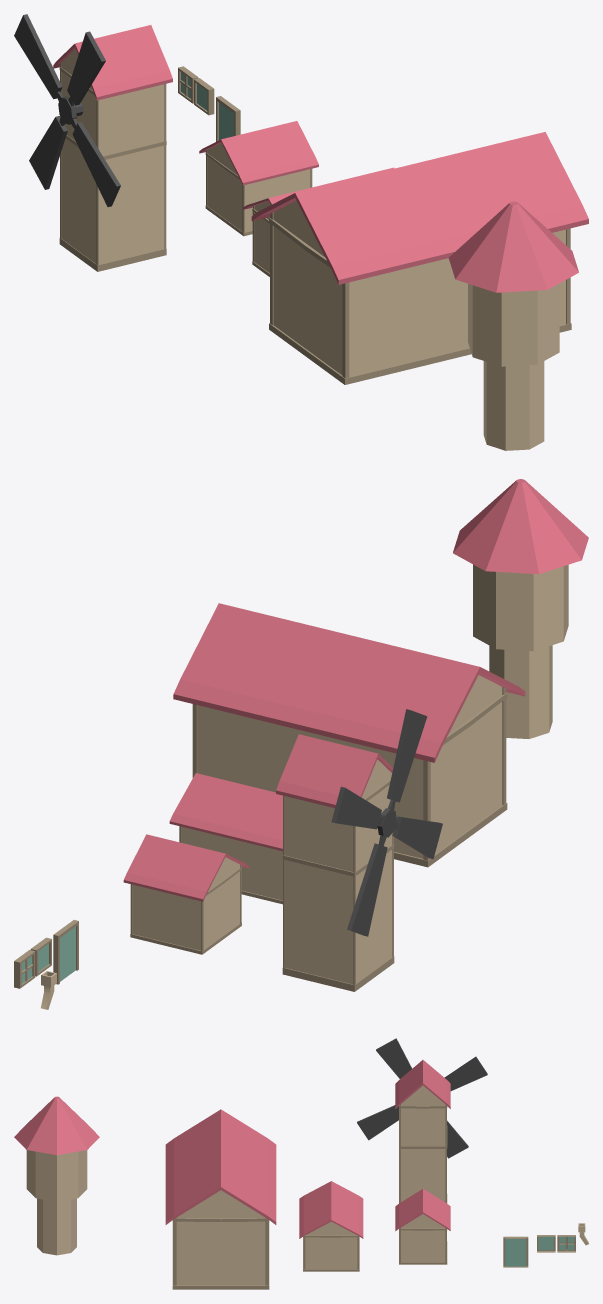
File: Houses_v2.fbx
The picture shows the model from 3 angles, top to bottom: view 1: azimuth 30°, elevation 25°; view 2: azimuth 150°, elevation 25°; view 3: azimuth 270°, elevation 25°; orthographic projection. The views are drawn at different scales.
Visible parts, largest first — view 1: Roof (×2), House (×2), Tower, House1 (×2), Roof1 (×2), Blades, House2, Door, Beam1, Window; view 2: Roof (×2), Tower, House (×2), House1 (×2), Roof1 (×2), Blades, House2, Door, Window1; view 3: Roof (×2), House (×2), Tower, Roof1 (×2), House1 (×2), Blades, House2, Door, Window, Window1.
Part boxes in pixels (<box>): Roof (×2): <box>243,132,588,284</box>; House (×2): <box>252,213,571,384</box>; Tower: <box>448,201,578,450</box>; House1 (×2): <box>59,138,310,271</box>; Roof1 (×2): <box>53,25,318,185</box>; Blades: <box>14,14,120,206</box>; House2: <box>61,72,166,159</box>; Door: <box>216,96,240,141</box>; Beam1: <box>342,282,349,378</box>; Window: <box>194,78,214,115</box>; Roof (×2): <box>169,603,525,851</box>; Tower: <box>453,479,588,738</box>; House (×2): <box>182,702,507,904</box>; House1 (×2): <box>130,850,394,991</box>; Roof1 (×2): <box>123,734,393,901</box>; Blades: <box>331,709,442,936</box>; House2: <box>282,785,394,876</box>; Door: <box>53,920,78,984</box>; Window1: <box>14,950,35,988</box>; Roof (×2): <box>165,1109,363,1238</box>; House (×2): <box>172,1221,359,1289</box>; Tower: <box>14,1096,99,1255</box>; Roof1 (×2): <box>395,1060,450,1231</box>; House1 (×2): <box>399,1149,447,1264</box>; Blades: <box>357,1038,487,1158</box>; House2: <box>399,1108,447,1148</box>; Door: <box>503,1236,528,1267</box>; Window: <box>537,1235,555,1252</box>; Window1: <box>557,1235,575,1252</box>.
Bounding box in the file's own units: 126 × 93.23 × 306.
